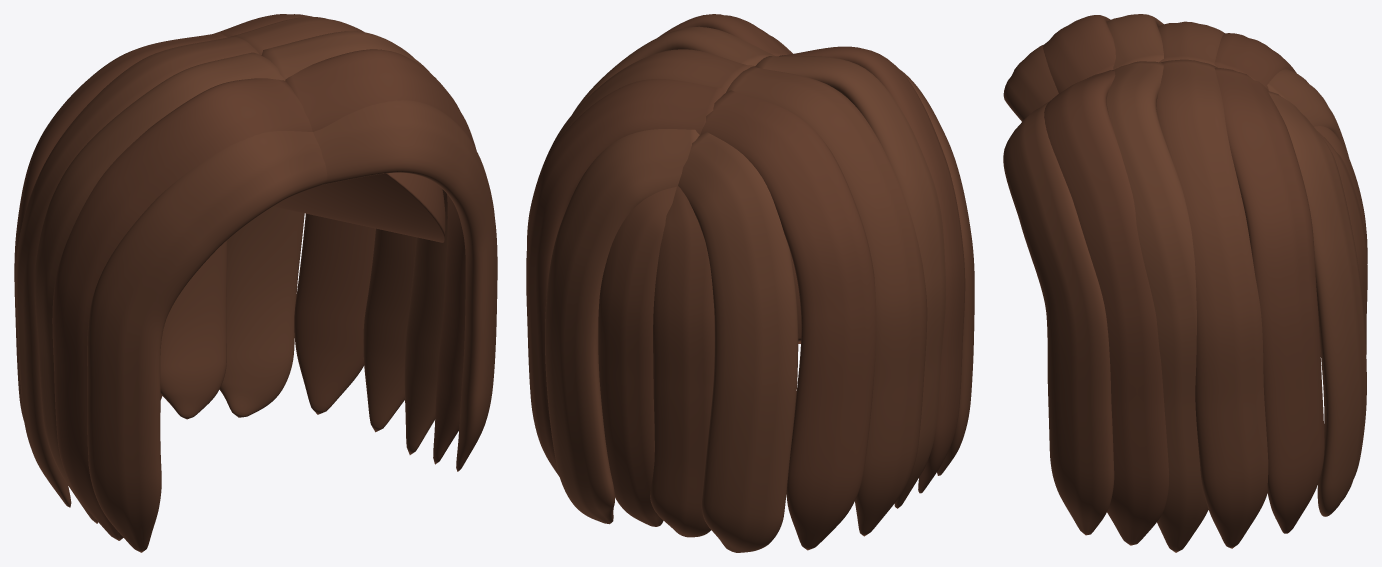
The model's file is hair-straight-grooved.glb.
The picture shows the model from 3 angles, left to right: view 1: azimuth 30°, elevation 25°; view 2: azimuth 150°, elevation 25°; view 3: azimuth 270°, elevation 25°; orthographic projection. The views are drawn at different scales.
Visible parts, largest first — view 1: Hair / Straight -1 0, Hair / Straight -1 1, Hair / Straight 1 0, Hair / Straight 1 1, Hair / Straight 1 5, Hair / Straight -1 3, Hair / Straight 1 4, Hair / Straight -1 2, Hair / Straight 1 3, Hair / Straight 1 2, Hair / Straight 1 6, Recessed roots (+1 smaller); view 2: Hair / Straight -1 4, Hair / Straight -1 5, Hair / Straight -1 3, Hair / Straight 1 5, Hair / Straight -1 6, Hair / Straight 1 6, Hair / Straight 1 4, Hair / Straight -1 2, Hair / Straight -1 1, Hair / Straight 1 3, Hair / Straight -1 0, Hair / Straight 1 2 (+1 smaller); view 3: Hair / Straight 1 3, Hair / Straight 1 4, Hair / Straight 1 1, Hair / Straight 1 0, Hair / Straight 1 2, Hair / Straight 1 5, Hair / Straight -1 1, Hair / Straight -1 0, Hair / Straight -1 4, Hair / Straight -1 2, Hair / Straight -1 3, Hair / Straight -1 5 (+2 smaller).
Part boxes in pixels (x1,y1,x2,y2): Hair / Straight -1 0: [87, 131, 327, 552]; Hair / Straight -1 1: [52, 78, 312, 540]; Hair / Straight 1 0: [313, 100, 497, 471]; Hair / Straight 1 1: [285, 49, 476, 464]; Hair / Straight 1 5: [219, 206, 304, 417]; Hair / Straight -1 3: [15, 36, 259, 507]; Hair / Straight 1 4: [214, 14, 375, 414]; Hair / Straight -1 2: [34, 52, 285, 523]; Hair / Straight 1 3: [231, 17, 416, 432]; Hair / Straight 1 2: [261, 31, 447, 454]; Hair / Straight 1 6: [160, 240, 227, 419]; Recessed roots: [273, 172, 445, 242]; Hair / Straight -1 4: [700, 90, 876, 550]; Hair / Straight -1 5: [678, 132, 798, 552]; Hair / Straight -1 3: [726, 66, 927, 536]; Hair / Straight 1 5: [545, 129, 699, 524]; Hair / Straight -1 6: [650, 186, 714, 537]; Hair / Straight 1 6: [598, 186, 676, 526]; Hair / Straight 1 4: [526, 79, 724, 476]; Hair / Straight -1 2: [755, 56, 945, 508]; Hair / Straight -1 1: [779, 46, 965, 493]; Hair / Straight 1 3: [527, 49, 753, 245]; Hair / Straight -1 0: [900, 70, 974, 475]; Hair / Straight 1 2: [572, 26, 775, 114]; Hair / Straight 1 3: [1156, 59, 1268, 548]; Hair / Straight 1 4: [1214, 68, 1324, 533]; Hair / Straight 1 1: [1044, 70, 1168, 545]; Hair / Straight 1 0: [1003, 102, 1114, 535]; Hair / Straight 1 2: [1106, 61, 1208, 552]; Hair / Straight 1 5: [1268, 91, 1366, 516]; Hair / Straight -1 1: [1043, 15, 1115, 93]; Hair / Straight -1 0: [1003, 44, 1058, 121]; Hair / Straight -1 4: [1214, 33, 1320, 356]; Hair / Straight -1 2: [1106, 14, 1163, 69]; Hair / Straight -1 3: [1158, 21, 1224, 67]; Hair / Straight -1 5: [1267, 69, 1366, 354].
Size of the model in its own units: 1.14 by 1.19 by 0.9205.
